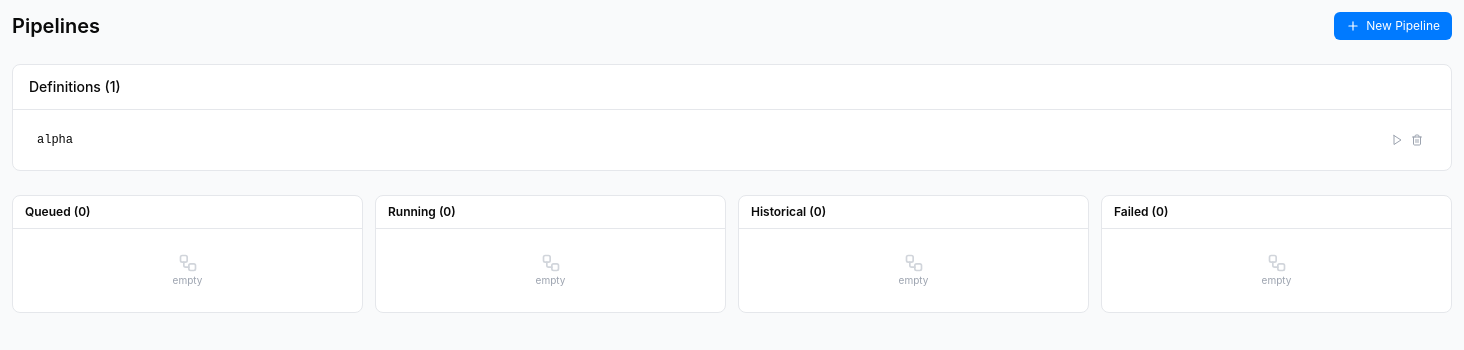
Test: <PipelinesPage> › shows error state when pipelineDeploy rejects
Click the button with test id "run-7". click: (1397, 140)
box: [1387, 130, 1407, 150]
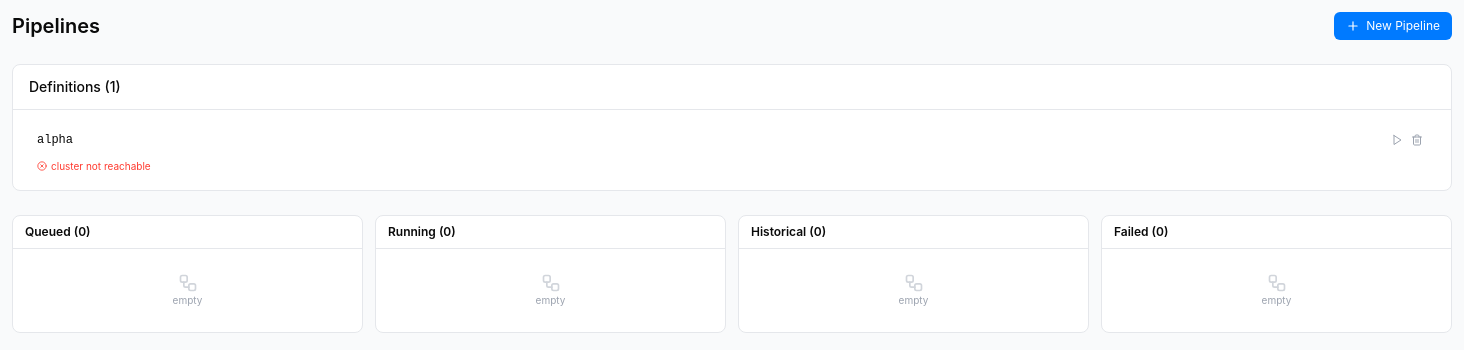
Now the element with test id "deploy-error-7" reads "cluster not reachable", box [51, 160, 151, 172]
